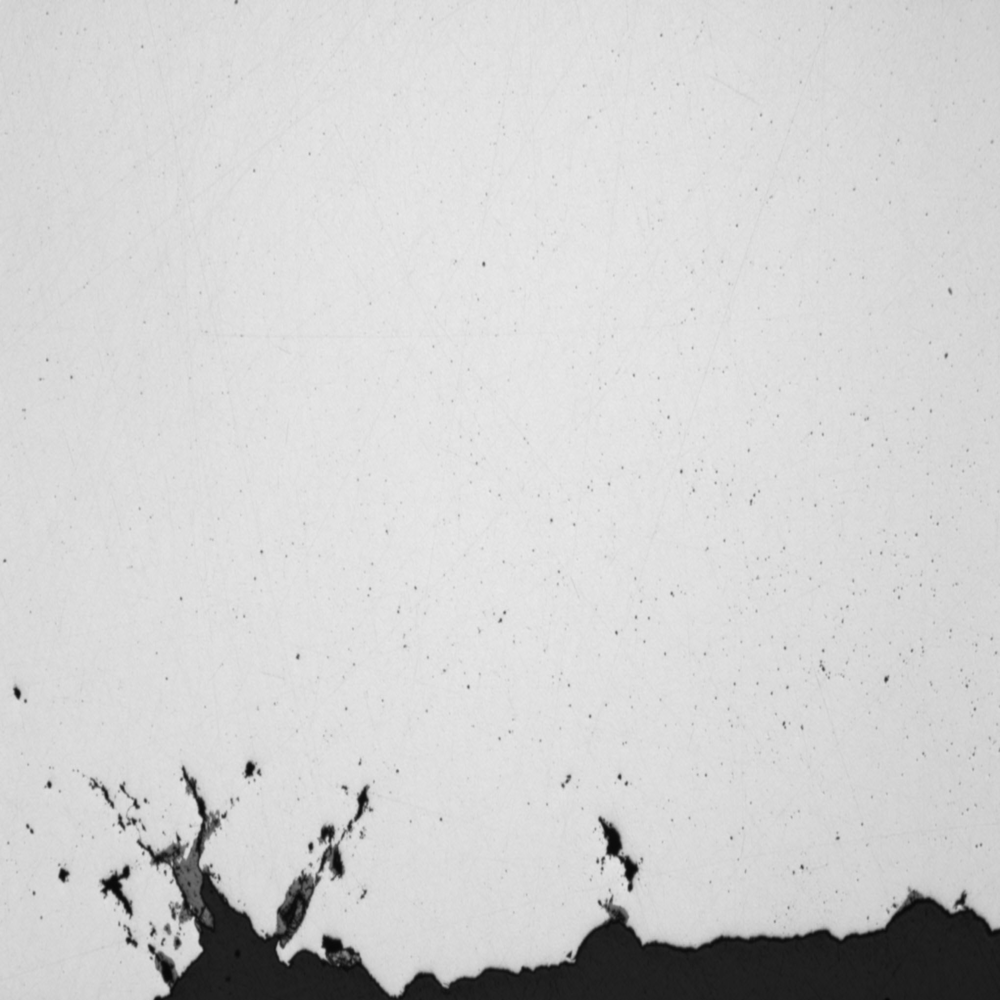crack: (17, 728, 429, 989), (531, 789, 684, 954)
